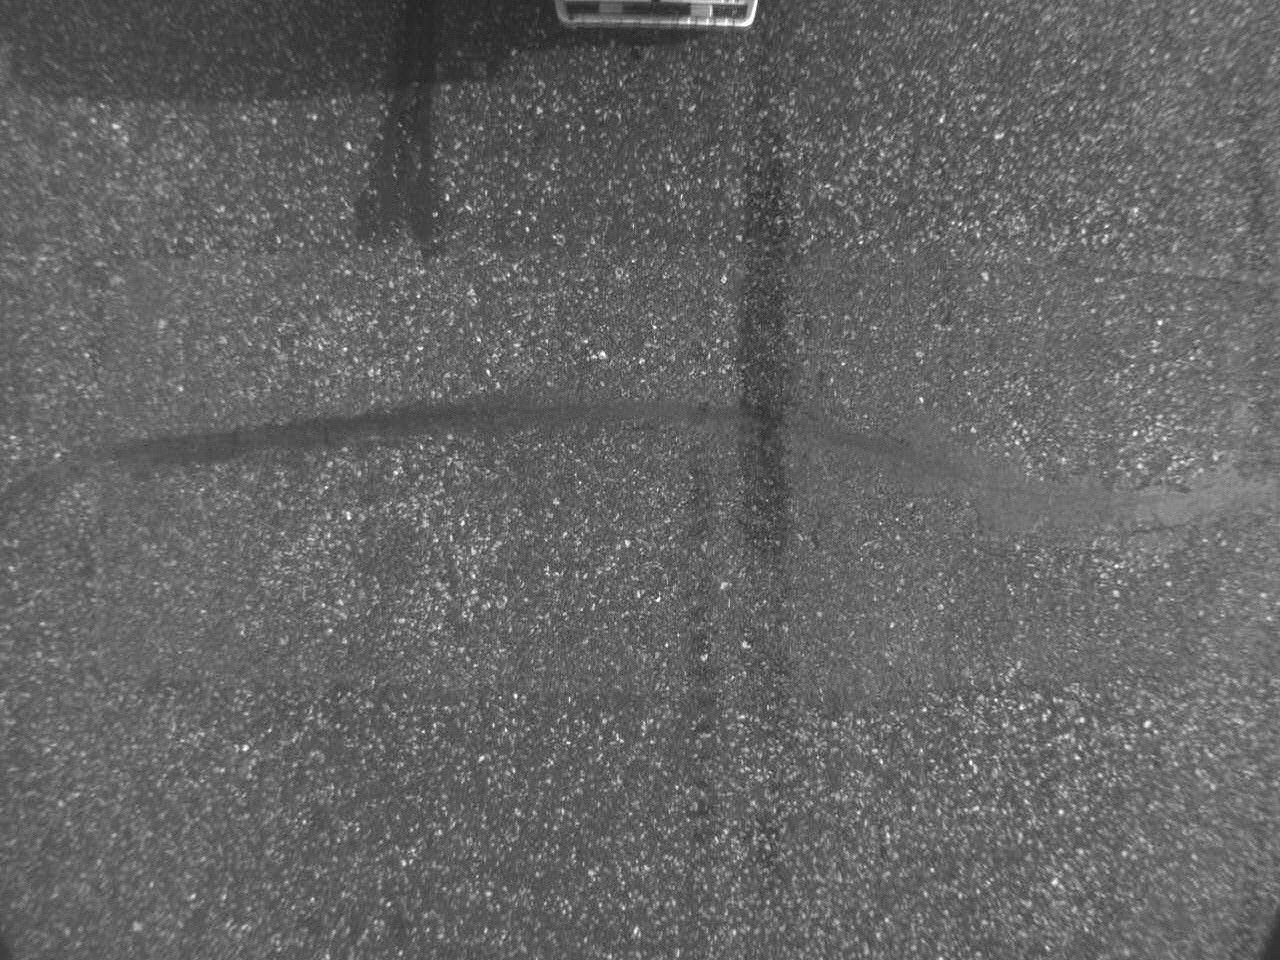sealed: (8, 380, 1278, 544)
